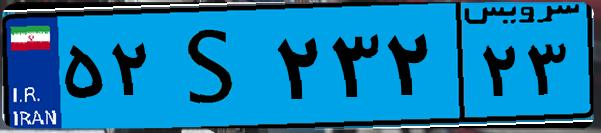2: (270, 28, 330, 110), (385, 28, 445, 110), (475, 38, 525, 113), (110, 28, 158, 98)
3: (330, 28, 385, 110), (525, 38, 570, 115)
5: (57, 26, 110, 100)
S: (158, 12, 270, 120)
